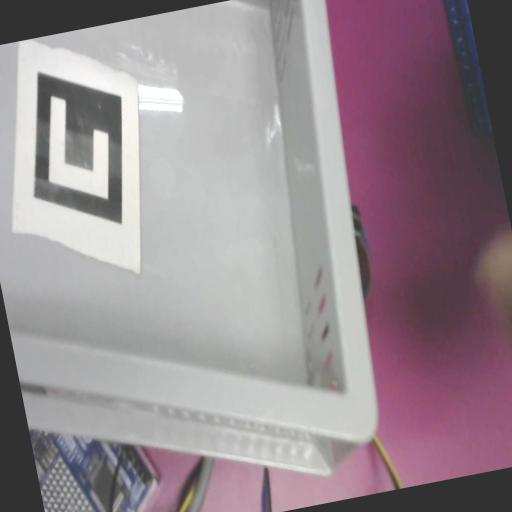QR: (0, 21, 175, 300)
